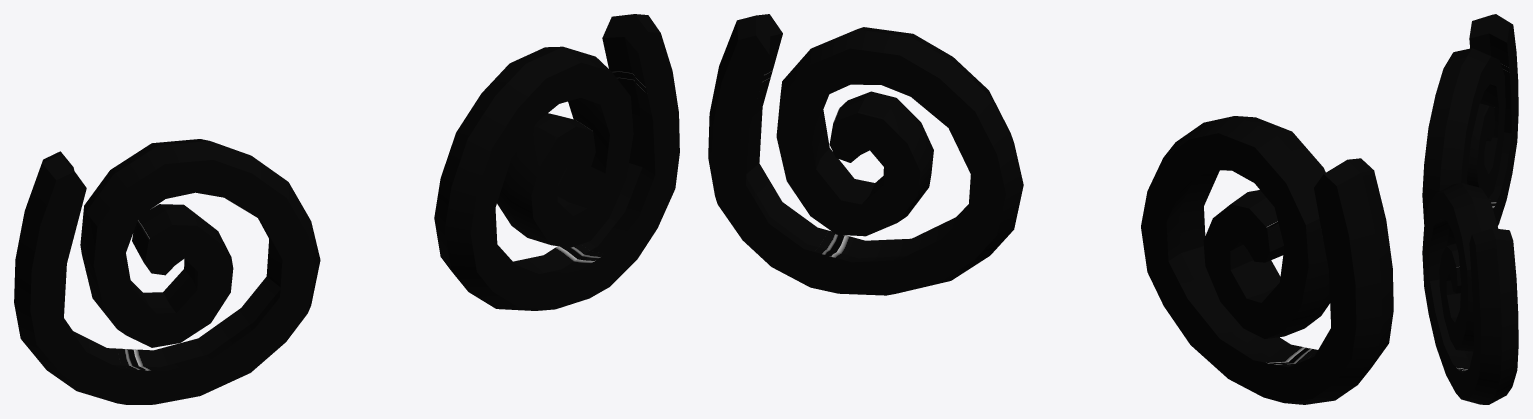
The model's file is eyes_05.fbx.
3 renders of one model, left to right at view 1: azimuth 30°, elevation 25°; view 2: azimuth 150°, elevation 25°; view 3: azimuth 270°, elevation 25°, orthographic. The views are drawn at different scales.
Parts seen in each view (by area): view 1: Eyes_05; view 2: Eyes_05; view 3: Eyes_05.
Boxes of the visible parts, left/top/right/bottom form: Eyes_05: left=14, top=14, right=679, bottom=404; Eyes_05: left=708, top=14, right=1393, bottom=404; Eyes_05: left=1422, top=14, right=1518, bottom=404.
Bounding box in the file's own units: 73.62 × 27.81 × 12.31.
